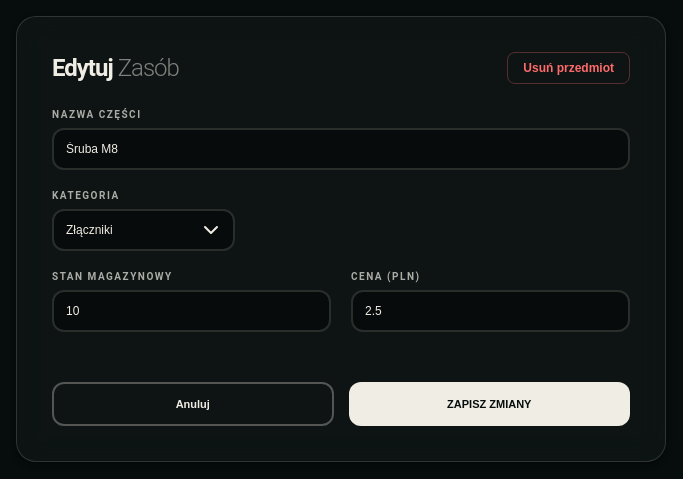
EditPartPage › wybór nowej kategorii › wybranie opcji NEW pokazuje input nowej kategorii
This screenshot has width=683, height=479.
Expected: the heading "Edytuj Zasób" is shown, [52, 54, 179, 82]
Select "+ Dodaj nową kategorię..." in the dropdown at (144, 230), box [52, 209, 235, 251]
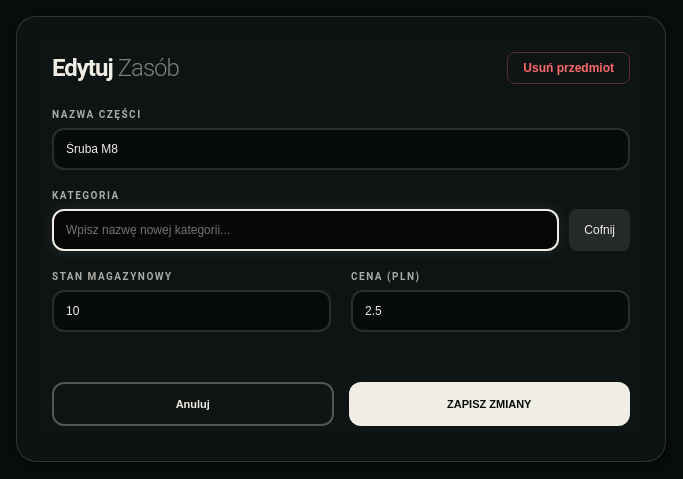
Expected: the field with placeholder "Wpisz nazwę nowej kategorii..." is shown, [52, 209, 559, 251]
